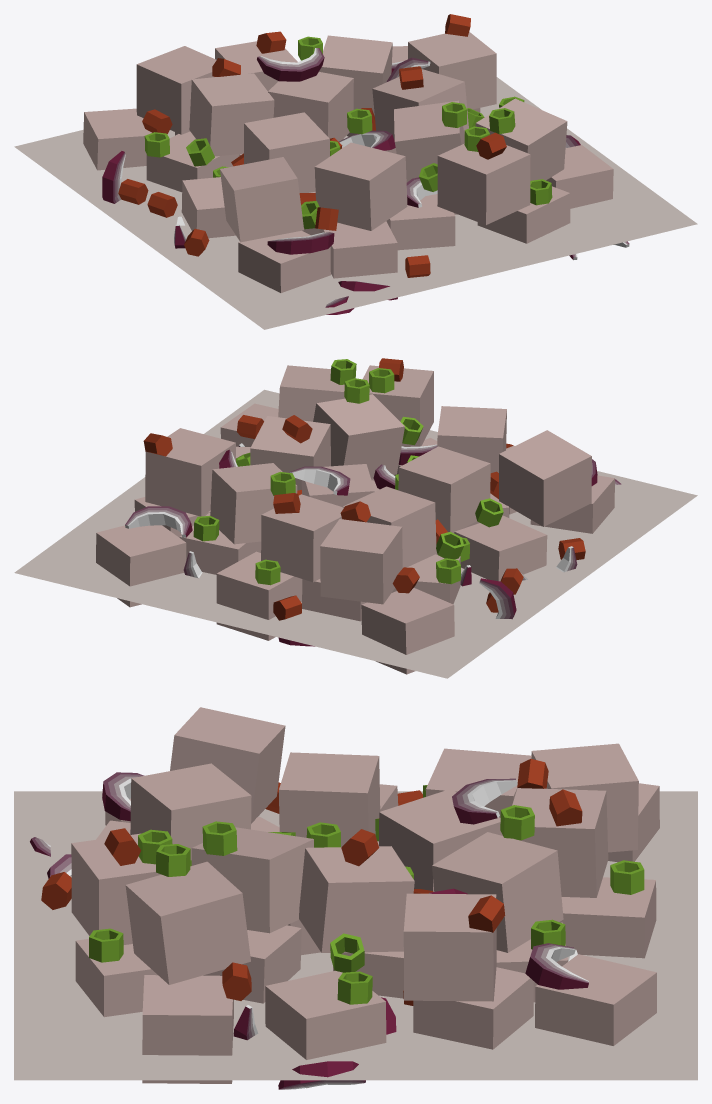
The model's file is Kinilaw na tangigue.fbx.
3 renders of one model, top to bottom at view 1: azimuth 30°, elevation 25°; view 2: azimuth 150°, elevation 25°; view 3: azimuth 270°, elevation 25°, orthographic. The views are drawn at different scales.
Parts seen in each view (by area): view 1: Kinilaw na Tangigue; view 2: Kinilaw na Tangigue; view 3: Kinilaw na Tangigue.
Part boxes in pixels (x1,y1,x2,y2): Kinilaw na Tangigue: (14, 14, 697, 329); Kinilaw na Tangigue: (14, 358, 697, 678); Kinilaw na Tangigue: (14, 707, 697, 1089).
Bounding box in the file's own units: 83.96 × 23.01 × 83.96.
